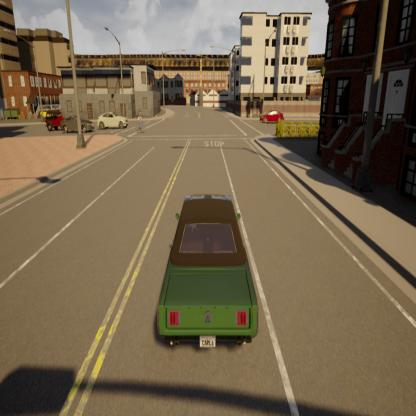Cars: (157, 194, 259, 352), (61, 114, 94, 134), (97, 111, 130, 130), (45, 108, 67, 132), (259, 106, 285, 125), (136, 109, 148, 139)
